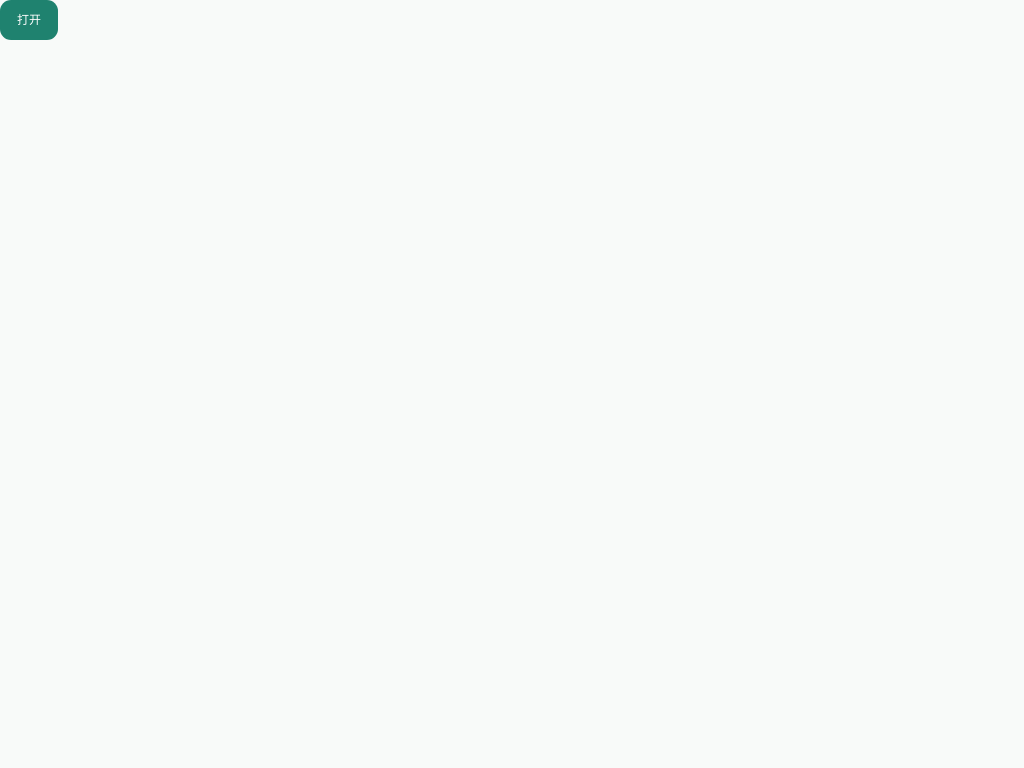
Test: overlays › traps focus, closes on Escape, and restores trigger focus
Click the button "打开" at x=29, y=20, box x1=0 y1=0 x2=58 y2=40
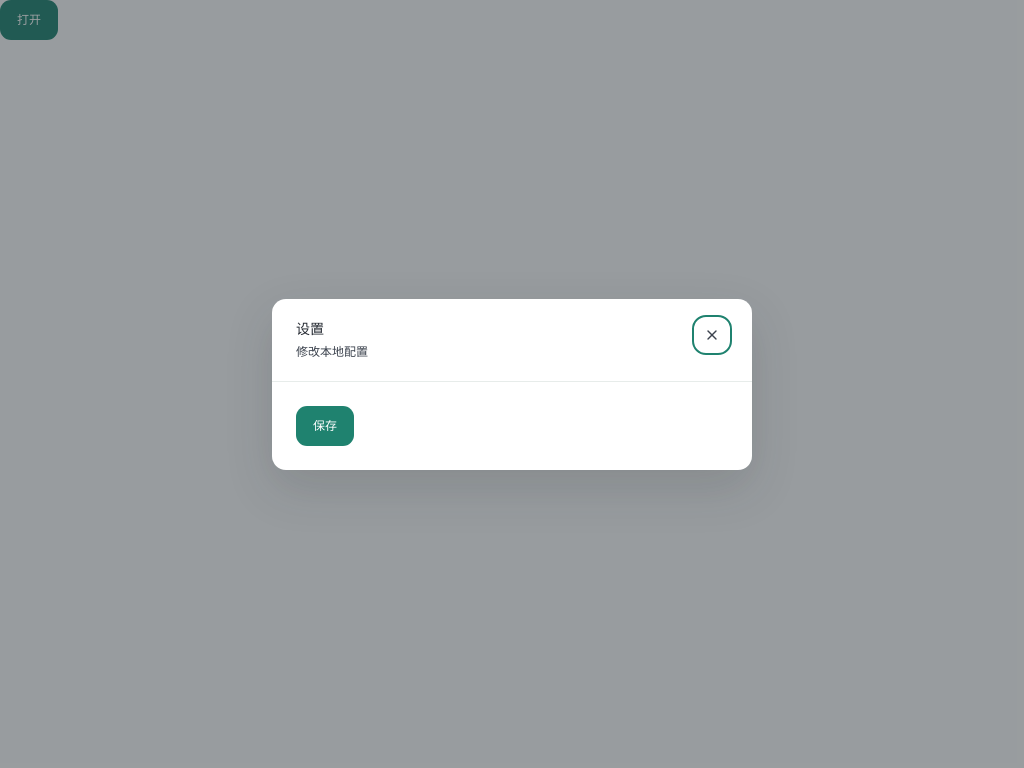
Expected: the dialog "设置" is shown, x1=272 y1=298 x2=752 y2=470
Press Escape
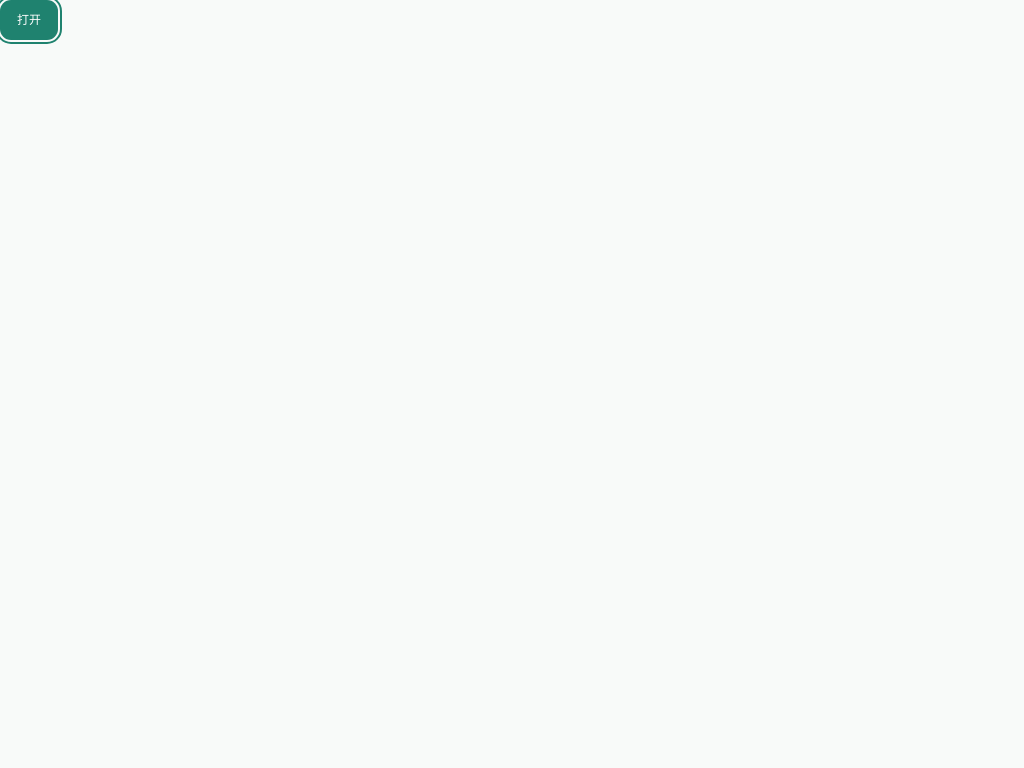
Expected: the dialog is gone
